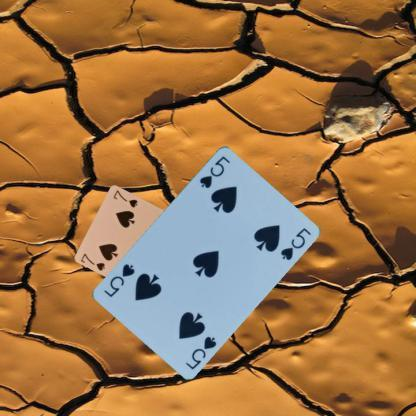5s: (196, 152, 232, 190), (183, 333, 218, 371)
7s: (78, 251, 106, 272)
